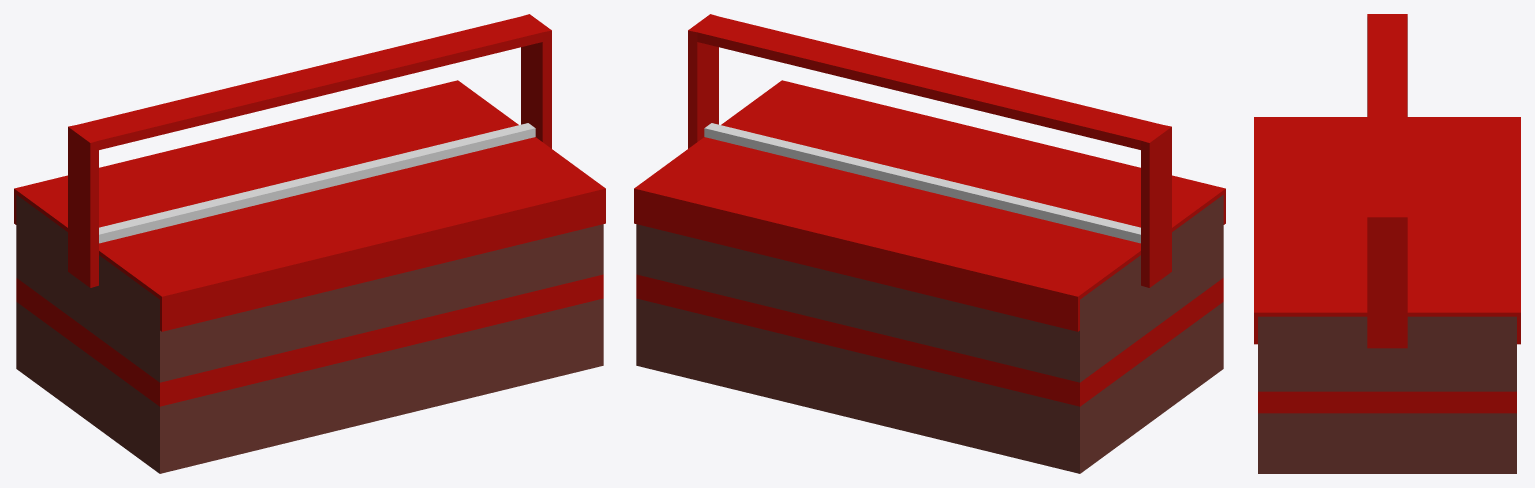
The model's file is Me_Tools_Box.fbx.
3 renders of one model, left to right at view 1: azimuth 30°, elevation 25°; view 2: azimuth 150°, elevation 25°; view 3: azimuth 270°, elevation 25°, orthographic. The views are drawn at different scales.
Visible parts, largest first — view 1: Me_Tools_Box; view 2: Me_Tools_Box; view 3: Me_Tools_Box.
Part boxes in pixels (bbox=[...]): Me_Tools_Box: bbox=[14, 14, 605, 473]; Me_Tools_Box: bbox=[634, 14, 1225, 473]; Me_Tools_Box: bbox=[1254, 14, 1520, 473].
Size of the model in its own units: 485 by 269 by 290.
